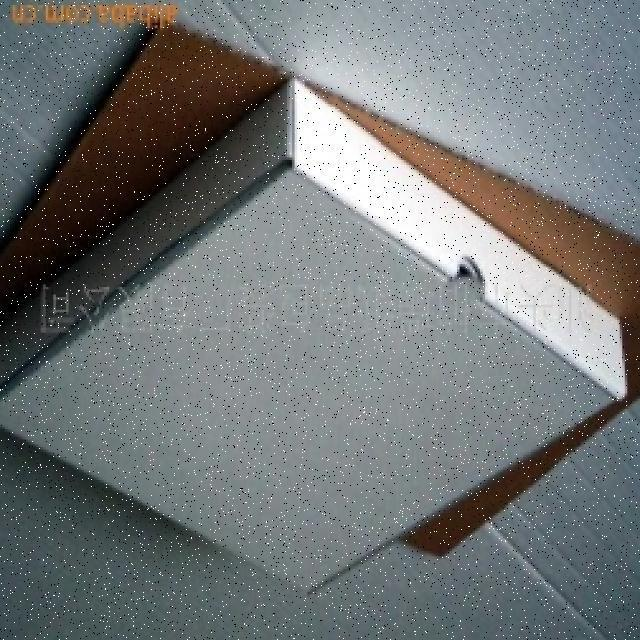box: (0, 56, 615, 564)
